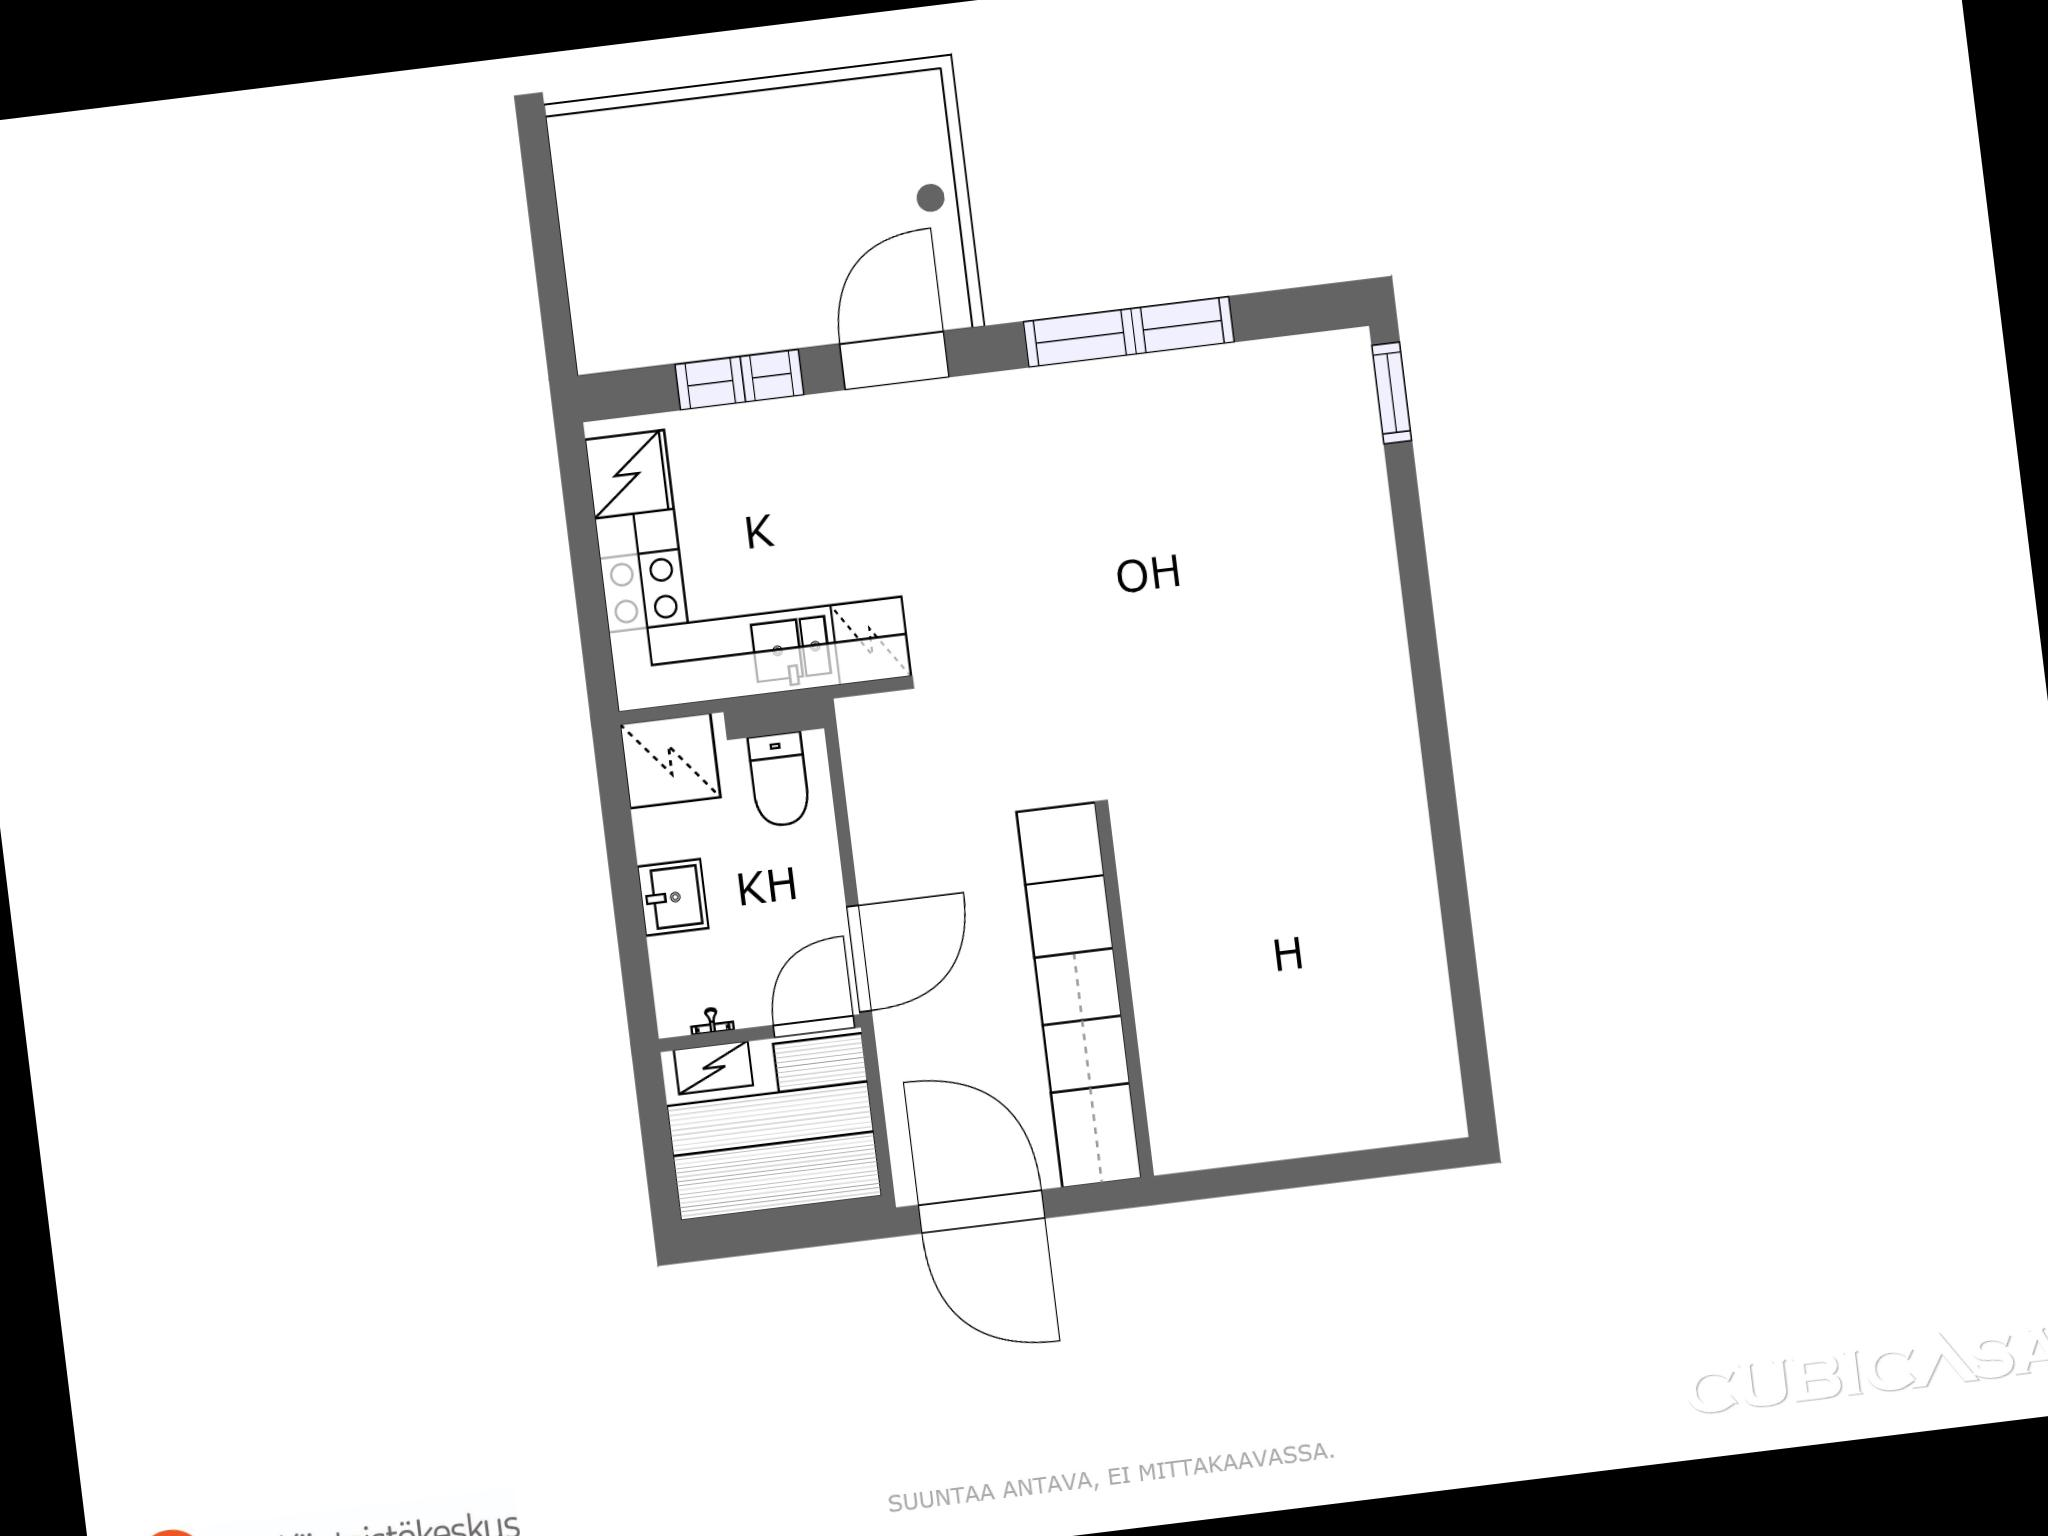door: (901, 1187, 1076, 1368), (897, 1052, 1053, 1236), (819, 221, 958, 389), (835, 886, 982, 1007), (755, 928, 863, 1047)
window: (1009, 281, 1253, 384), (661, 337, 816, 423), (1358, 326, 1426, 455)
